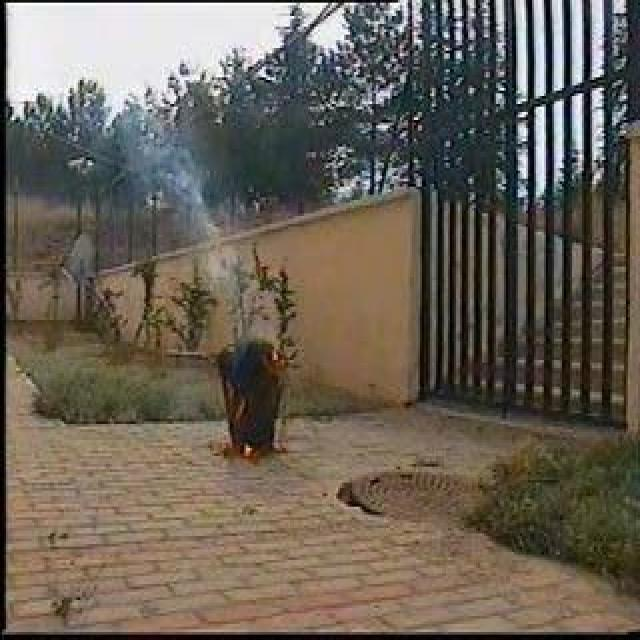fire: (269, 339, 285, 373)
smoke: (161, 147, 209, 210)
